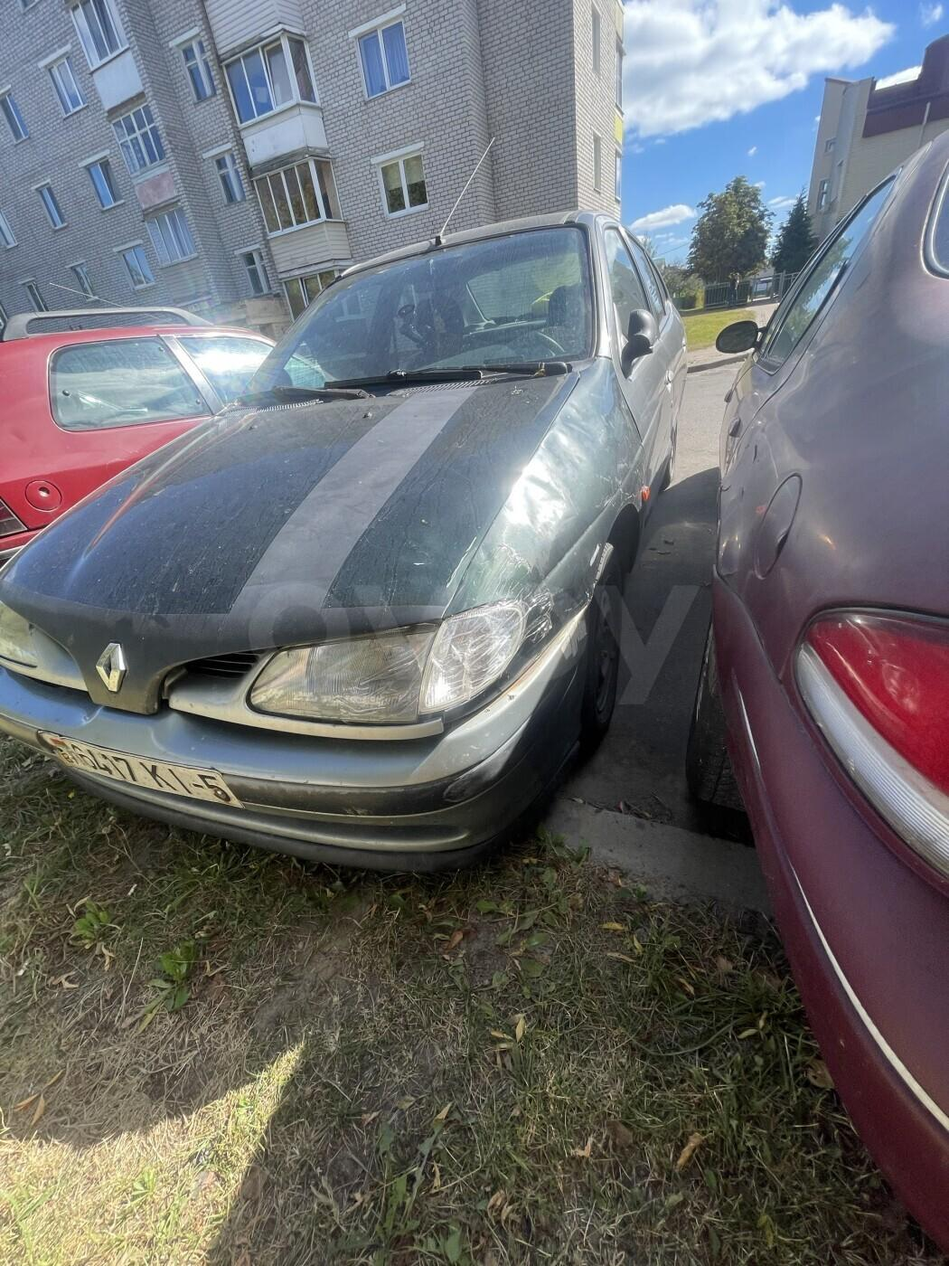Megane_1995-1999: (2, 206, 703, 886)
